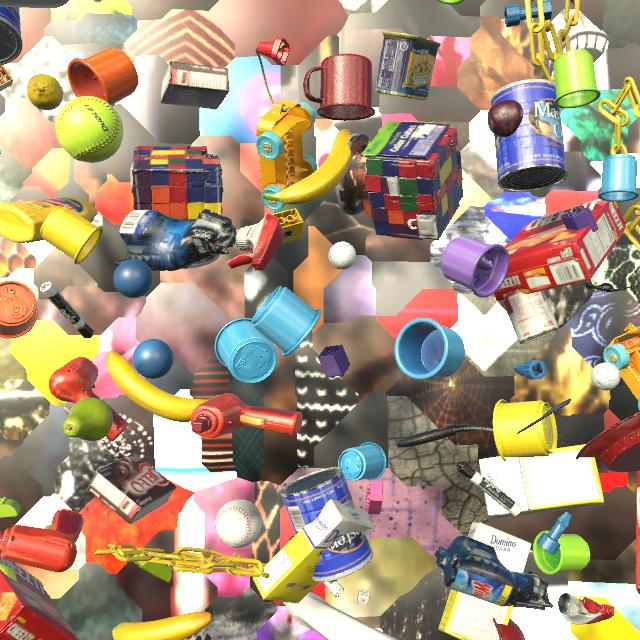ycb_002_master_chef_can: (280, 467, 373, 582), (490, 78, 568, 192), (0, 6, 23, 65)
ycb_003_cracker_box: (494, 198, 626, 301), (0, 553, 80, 640), (635, 471, 640, 595)
ycb_004_sugar_box: (253, 499, 374, 604), (438, 521, 531, 640), (479, 444, 604, 519), (0, 151, 1, 154)
ycb_005_tomato_soup_can: (502, 291, 559, 344)
ycb_006_mustard_bottle: (0, 197, 98, 243)
ycb_008_pudding_box: (87, 453, 177, 525), (161, 61, 229, 110)
ycb_010_potted_meat_can: (375, 31, 441, 100)
ycb_011_banana: (106, 351, 219, 422), (263, 129, 351, 205), (112, 612, 212, 640)
ycb_014_lemon: (27, 74, 63, 110)
ycb_016_pear: (62, 398, 113, 441)
ycb_018_plum: (487, 100, 523, 137)
